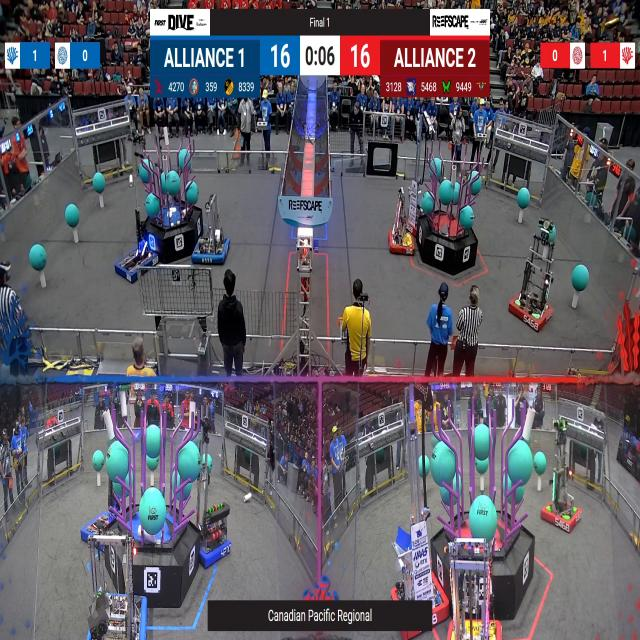scoreboard: (152, 36, 490, 98)
